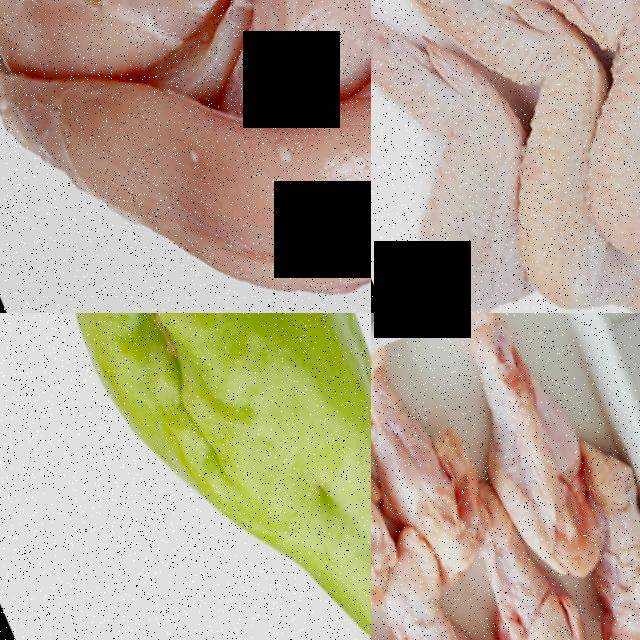chayote: (0, 313, 371, 640)
chicken breast: (70, 21, 371, 313), (0, 0, 265, 121), (189, 0, 371, 136)
chicken thigh: (417, 313, 637, 595), (431, 477, 626, 640), (539, 431, 640, 640), (371, 520, 534, 640), (371, 362, 424, 619)
chicken wing: (371, 0, 593, 313), (458, 0, 640, 303), (524, 0, 640, 284)
